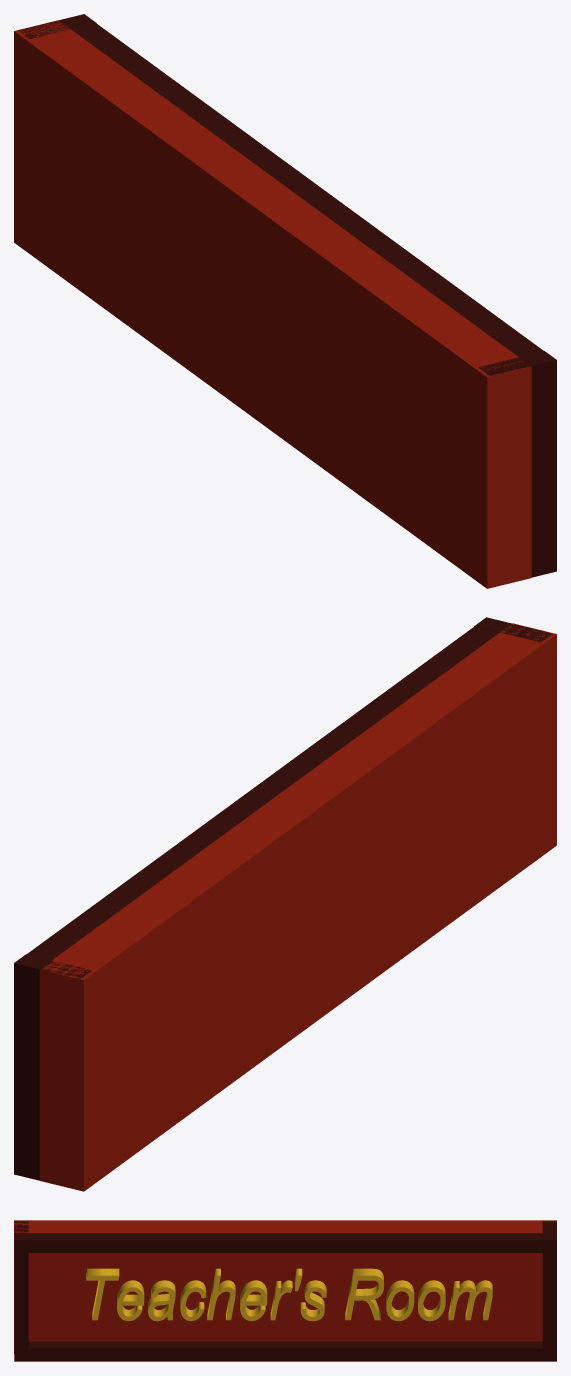
Rendered from TeachersRoom.fbx.
3 renders of one model, top to bottom at view 1: azimuth 30°, elevation 25°; view 2: azimuth 150°, elevation 25°; view 3: azimuth 270°, elevation 25°, orthographic. The views are drawn at different scales.
Visible parts, largest first — view 1: Text; view 2: Text; view 3: Text.
Part boxes in pixels (<box>): Text: <box>14,14,556,588</box>; Text: <box>14,617,556,1191</box>; Text: <box>14,1220,556,1361</box>.
Bounding box in the file's own units: 69.49 × 200 × 811.
